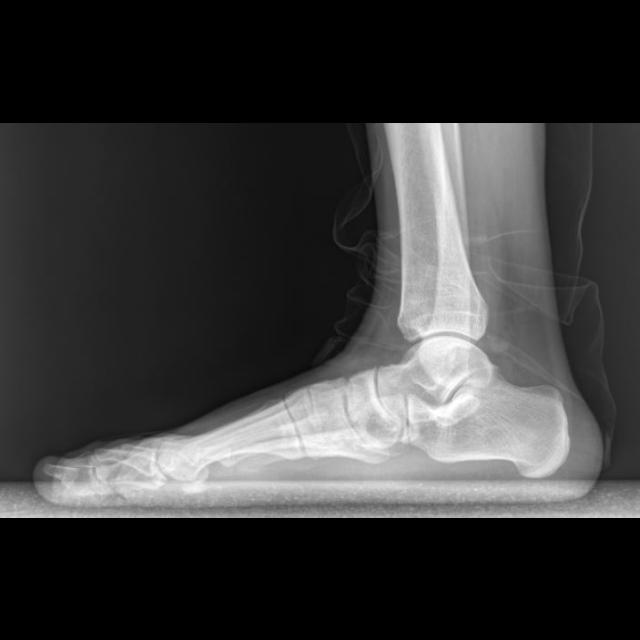a: (407, 367, 570, 475)
b: (346, 366, 399, 443)
c: (162, 400, 304, 478)
